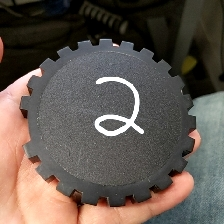gear: (18, 37, 198, 208)
missing: (19, 94, 42, 161)
